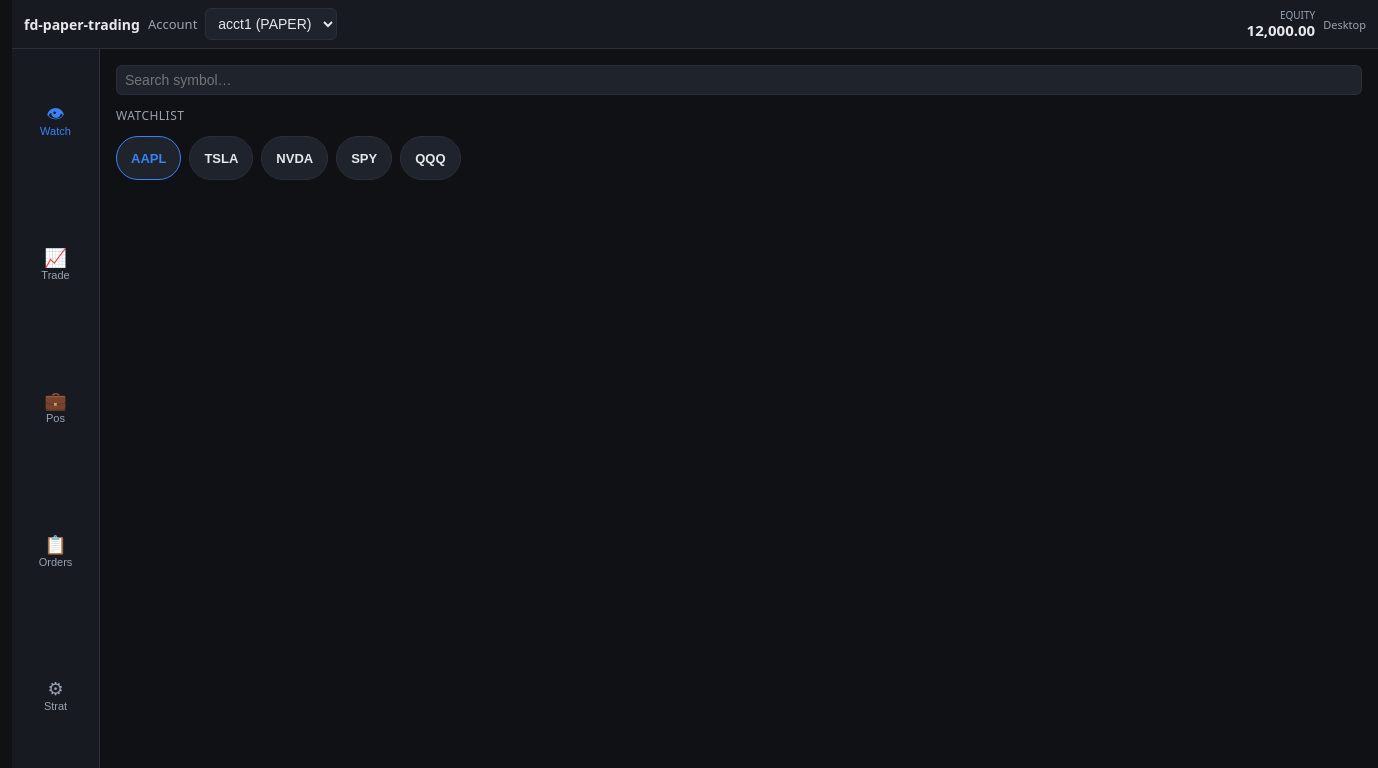
MobileApp › switches to the Strategies tab empty state
The width and height of the screenshot is (1378, 768).
Click the text "Strat".
click(56, 706)  # box 44,700 -> 67,712
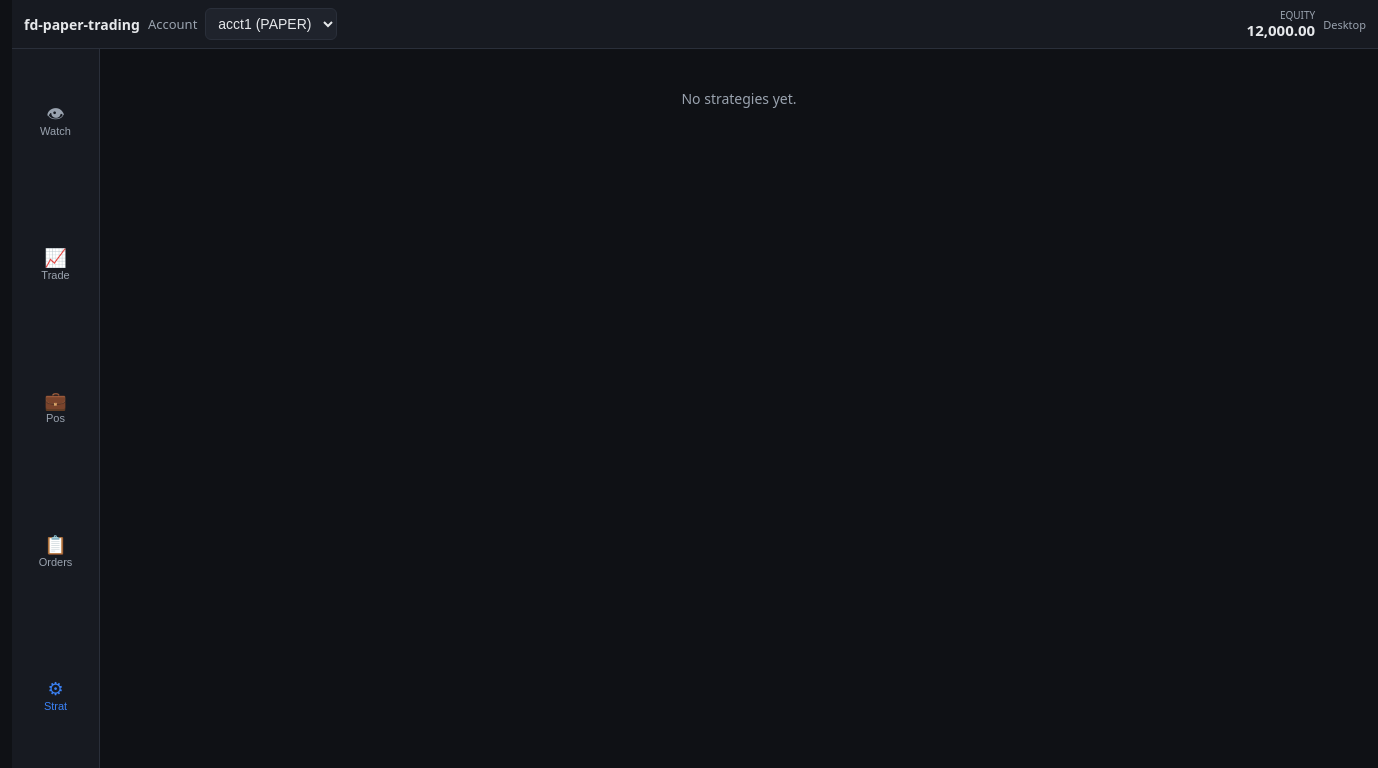
Expected: the text "No strategies yet." is shown, 681,89 -> 796,108
